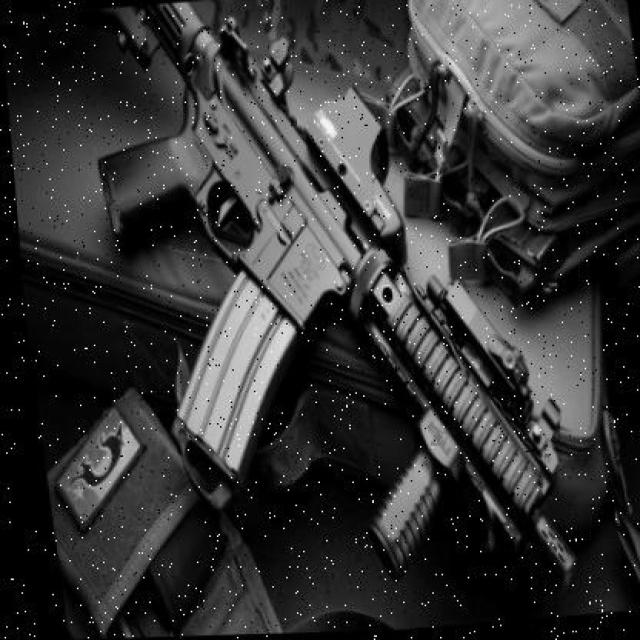weapon: (92, 6, 588, 594)
